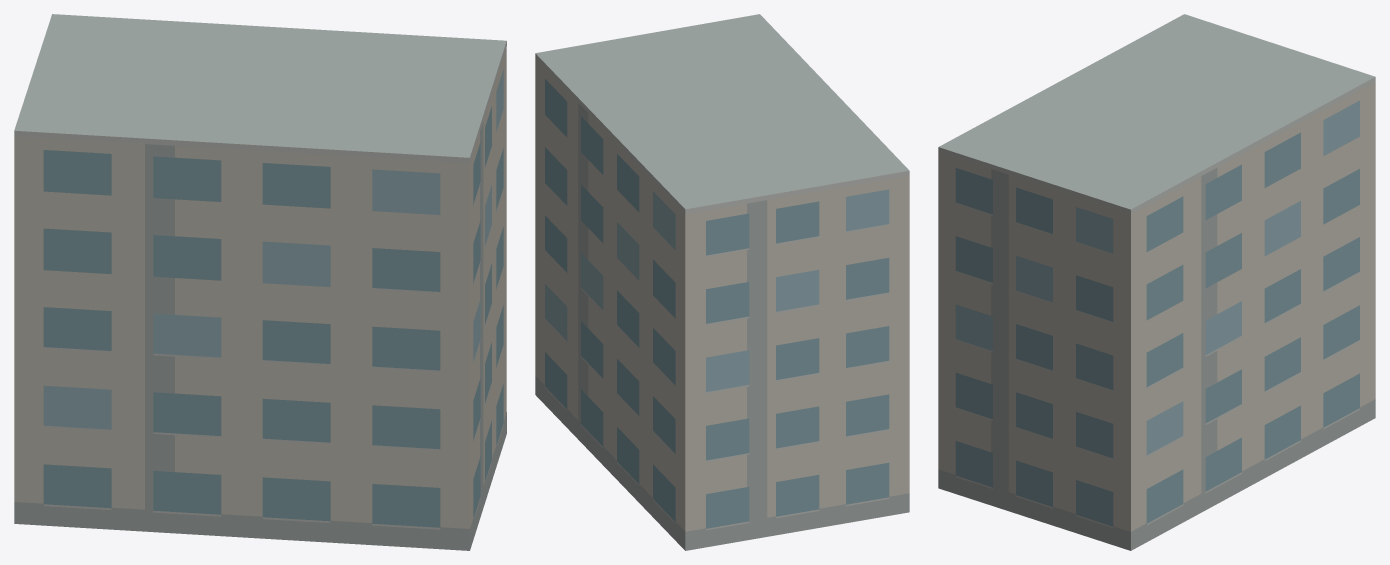
File: survey-upis-32915175.glb
The picture shows the model from 3 angles, left to right: view 1: azimuth 30°, elevation 25°; view 2: azimuth 150°, elevation 25°; view 3: azimuth 270°, elevation 25°; orthographic projection. The views are drawn at different scales.
Visible parts, largest first — view 1: survey-upis-32915175.tmp; view 2: survey-upis-32915175.tmp; view 3: survey-upis-32915175.tmp.
Boxes of the visible parts, x1=… form: survey-upis-32915175.tmp: x1=14, y1=14, x2=506, y2=550; survey-upis-32915175.tmp: x1=535, y1=14, x2=909, y2=550; survey-upis-32915175.tmp: x1=938, y1=14, x2=1375, y2=550.
Size of the model in its own units: 21.34 by 17.35 by 20.15.
